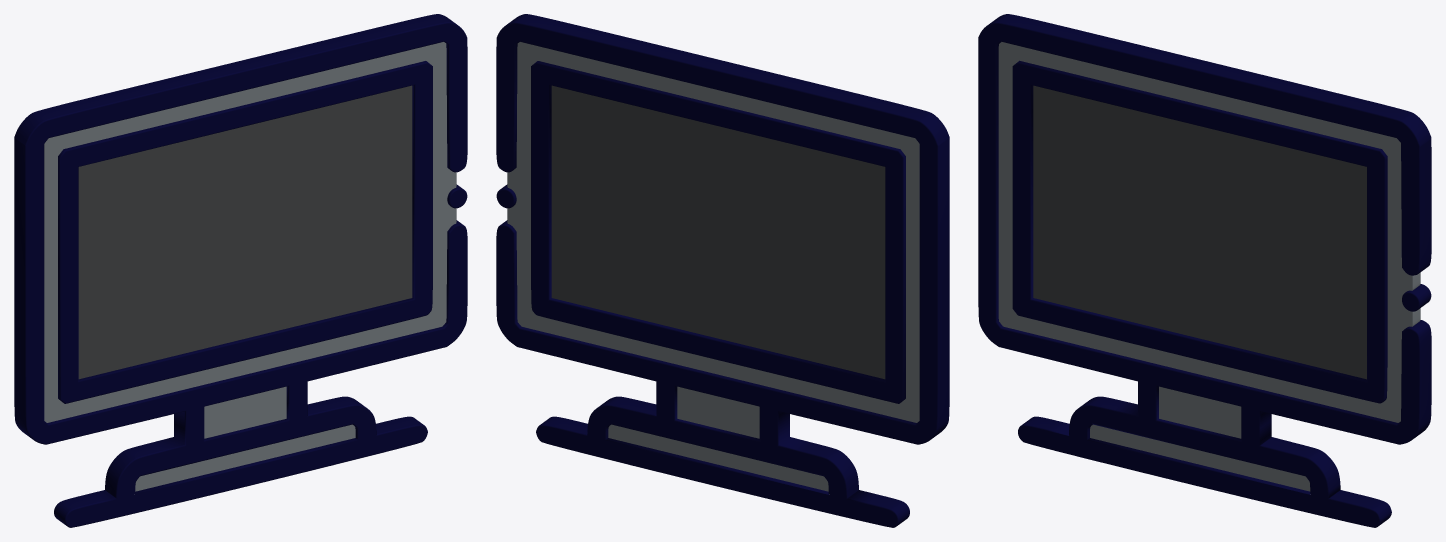
3 views of the same model, side by side, from view 1: azimuth 30°, elevation 25°; view 2: azimuth 150°, elevation 25°; view 3: azimuth 330°, elevation 25° (orthographic).
Parts seen in each view (by area): view 1: path485, path491, path489; view 2: path485, path491, path489; view 3: path485, path491, path489.
Part boxes in pixels (x1,y1,x2,y2): path485: (14,14,467,527); path491: (78,85,412,379); path489: (44,42,456,491); path485: (496,14,949,527); path491: (551,85,885,379); path489: (507,42,919,491); path485: (978,14,1431,527); path491: (1033,85,1366,379); path489: (998,42,1420,491).
Size of the model in its own units: 7.08 by 6.37 by 0.3294.
